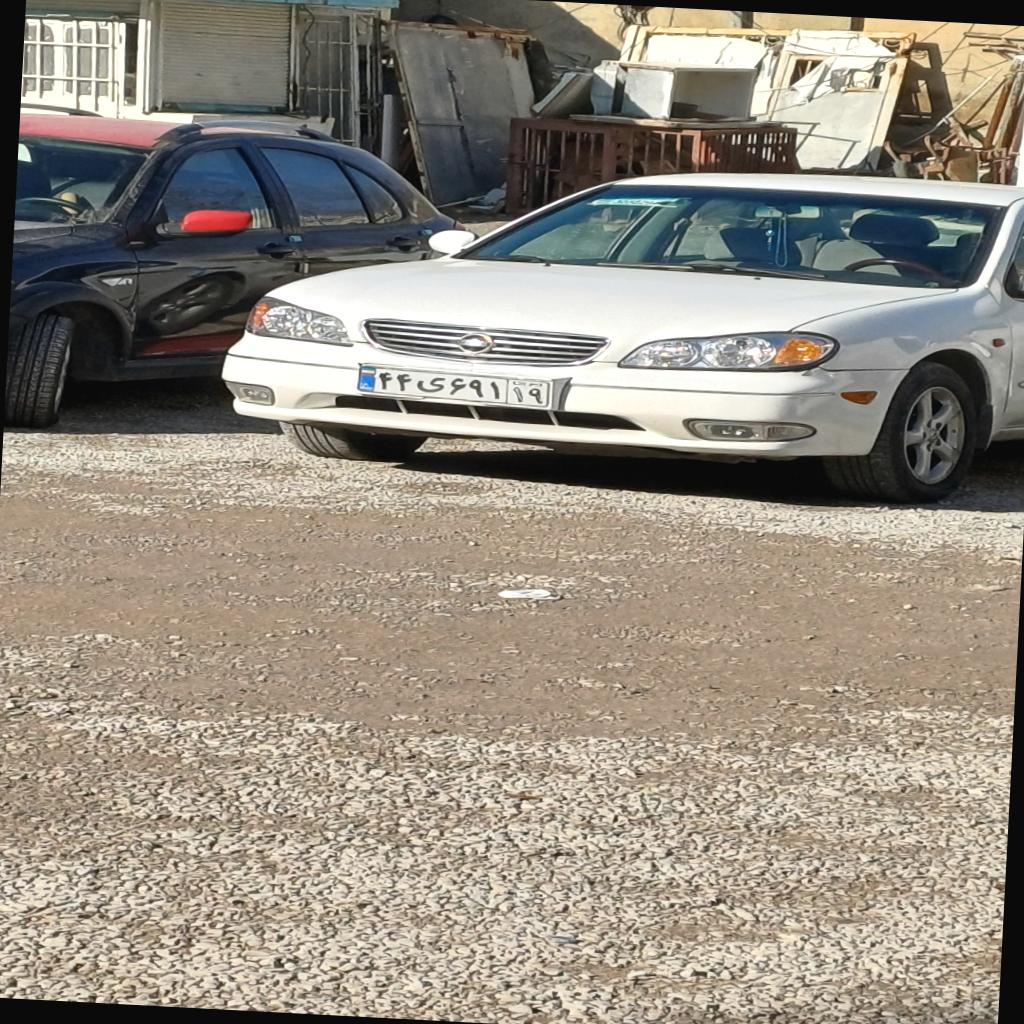Plates: (356, 364, 550, 408)
